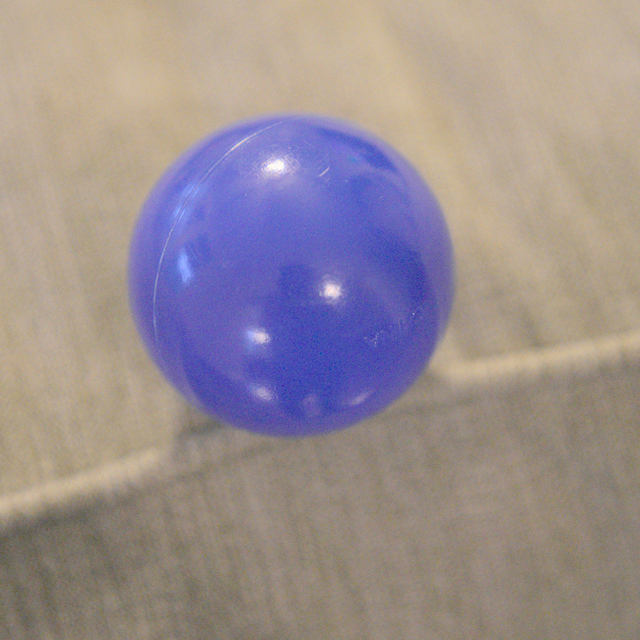Ball: (129, 108, 461, 439)
